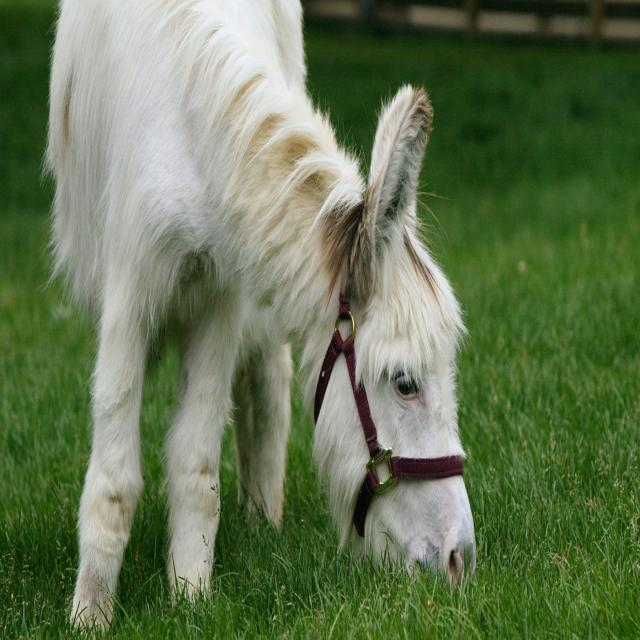Donkey: (36, 4, 477, 640)
